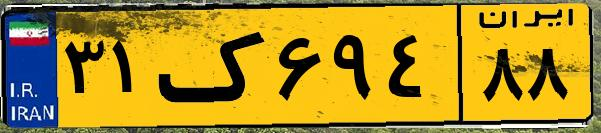1: (110, 28, 158, 98)
3: (57, 26, 110, 100)
4: (385, 28, 445, 110)
6: (270, 28, 330, 110)
8: (475, 38, 525, 113), (525, 38, 570, 115)
9: (330, 28, 385, 110)
ک: (158, 12, 270, 120)
